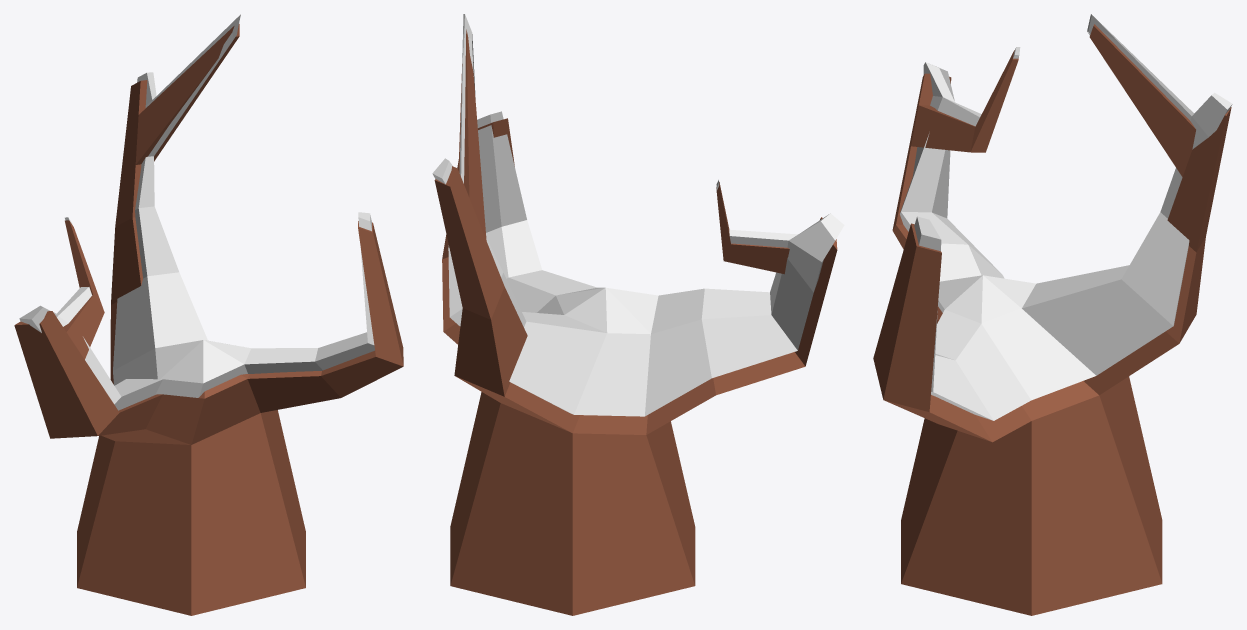
Rendered from Bush_2_winter.fbx.
3 views of the same model, side by side, from view 1: azimuth 30°, elevation 25°; view 2: azimuth 150°, elevation 25°; view 3: azimuth 270°, elevation 25° (orthographic). The views are drawn at different scales.
Parts seen in each view (by area): view 1: Bush_2_winter; view 2: Bush_2_winter; view 3: Bush_2_winter.
Part boxes in pixels (x1=…): Bush_2_winter: x1=14, y1=14, x2=403, y2=615; Bush_2_winter: x1=432, y1=14, x2=844, y2=615; Bush_2_winter: x1=873, y1=14, x2=1232, y2=615.
Bounding box in the file's own units: 23.52 × 30.1 × 16.91.
